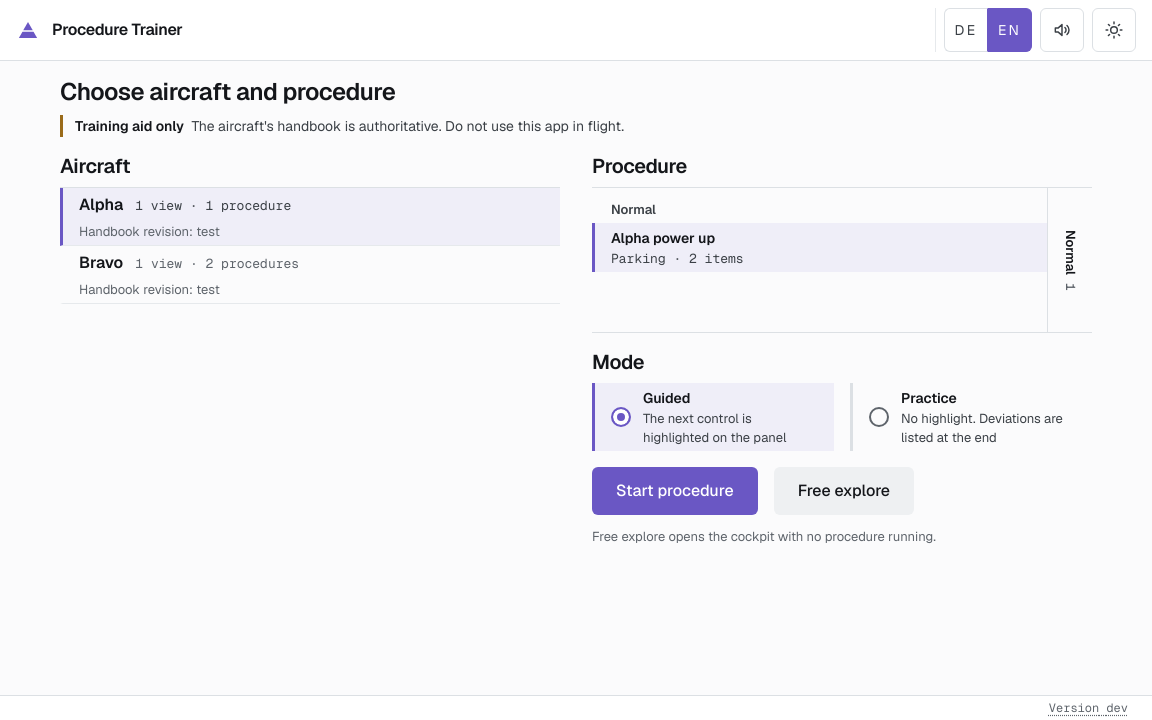
Test case: language switch › changes a shell string and an aircraft name in one render
Expected: the heading "Choose aircraft and procedure" is shown, [60,76,395,107]
Expected: the text "Alpha" is shown, [79,192,123,218]
What coordinates should you click on to do the following:
click the button with aria-label "Deutsch"
I would click on:
 (966, 30)
Its box is [944,8,988,52].
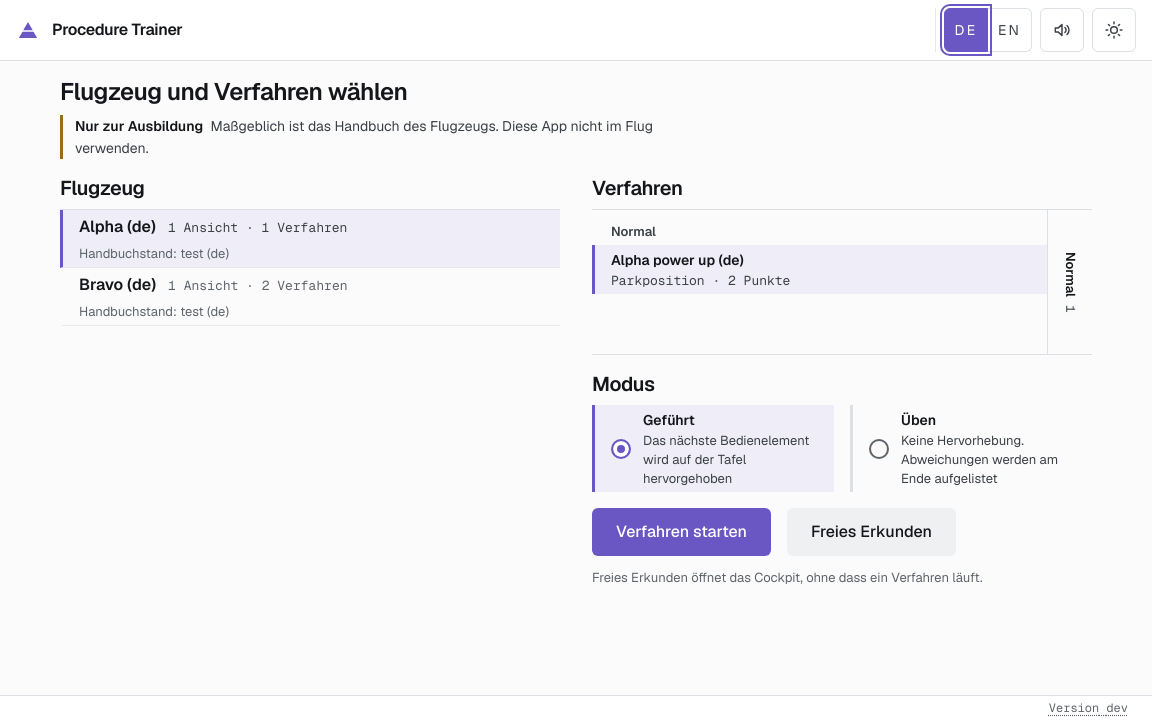
Expected: the heading "Flugzeug und Verfahren wählen" is shown, [60,76,408,107]
